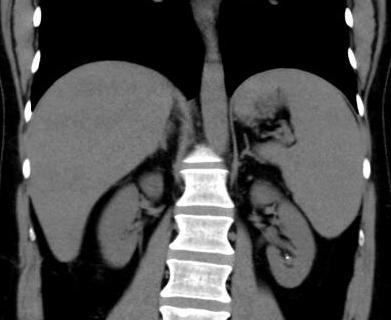Tas_Var: (285, 255, 290, 260)
